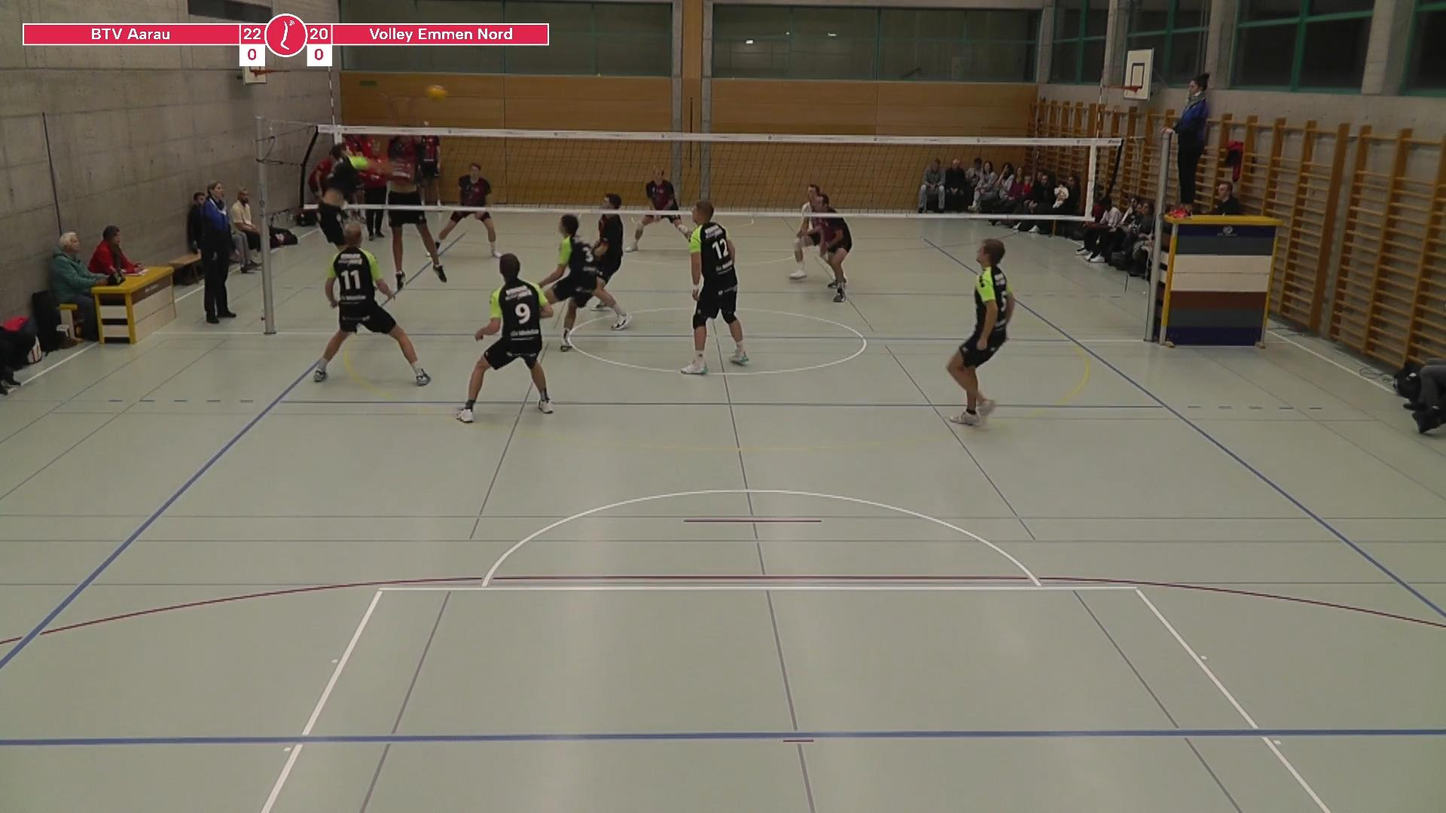Attack: (305, 136, 407, 258)
Block: (376, 115, 462, 290)
Player: (313, 222, 430, 385), (456, 254, 553, 423), (947, 239, 1014, 425), (541, 215, 631, 351), (681, 201, 748, 374), (789, 184, 821, 280), (438, 211, 499, 257), (626, 214, 689, 251), (593, 213, 624, 286), (817, 193, 836, 215)
ball: (429, 83, 451, 99)
